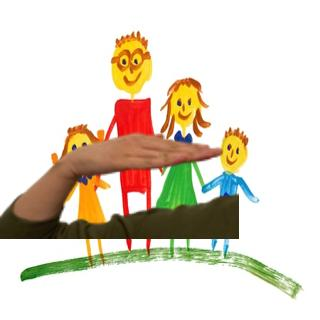WAIT: (63, 128, 226, 182)
